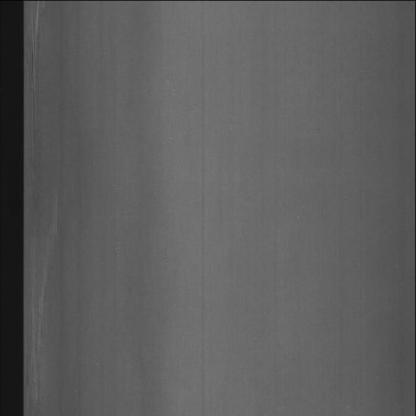silk_spot: (28, 226, 62, 400), (27, 2, 49, 177)
